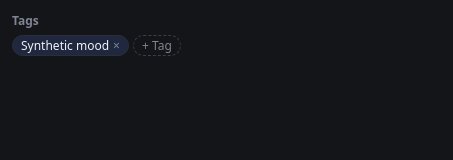
removing a tag chip refuses when the edge itself changed while waiting on a bundle write
What coordinates should you click on to do the following:
click the button named "Remove Synthetic mood"
I would click on:
 (120, 46)
Its box is [111,36,128,55].
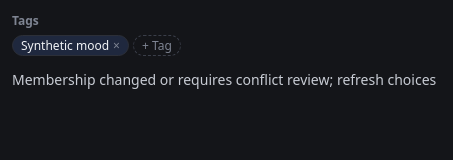
Expected: the message reads "Membership changed or requires conflict review; refresh choices", [12,70,436,89]
